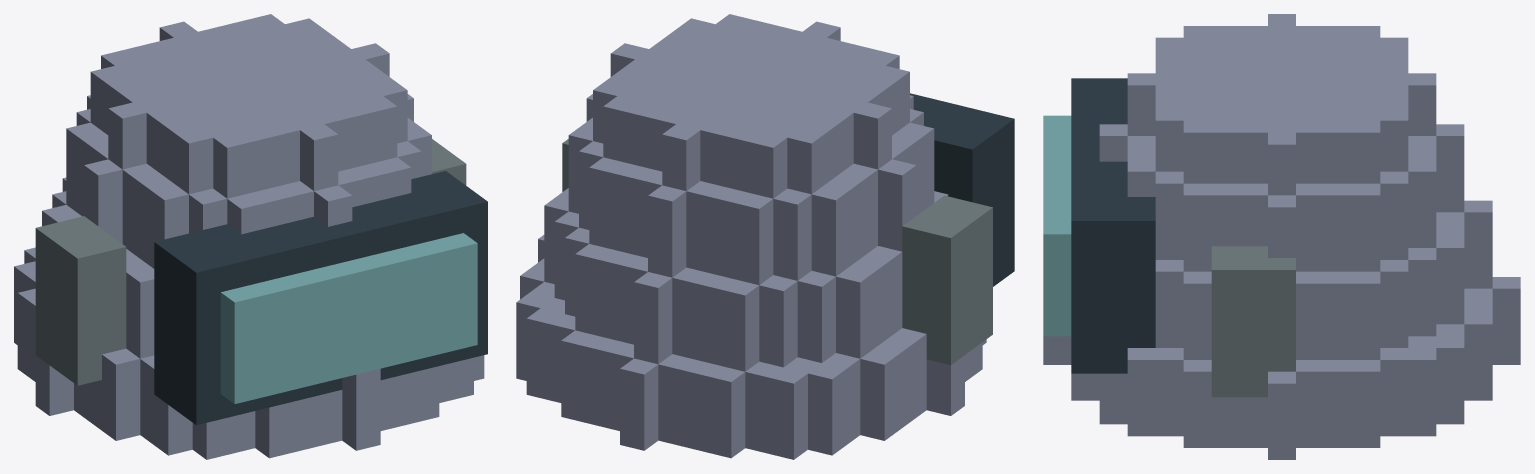
File: aerospace-05.glb
3 renders of one model, left to right at view 1: azimuth 30°, elevation 25°; view 2: azimuth 150°, elevation 25°; view 3: azimuth 270°, elevation 25°, orthographic.
Parts seen in each view (by area): view 1: Astronaut helmet; view 2: Astronaut helmet; view 3: Astronaut helmet.
Part boxes in pixels (x1,y1,x2,y2): Astronaut helmet: [14, 14, 487, 459]; Astronaut helmet: [516, 14, 1014, 459]; Astronaut helmet: [1043, 14, 1520, 459].
Size of the model in its own units: 1.36 by 0.88 by 1.36.
